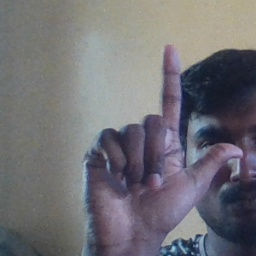L: (76, 42, 245, 248)
